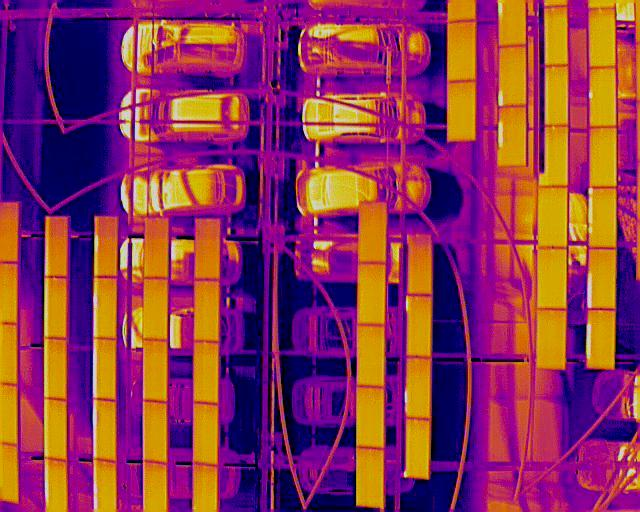Cell: (588, 67, 617, 127)
No-Anomaly: (446, 80, 477, 144), (357, 260, 386, 326), (539, 186, 569, 249), (358, 200, 387, 264), (539, 247, 568, 310), (448, 19, 477, 82), (356, 325, 384, 389), (590, 127, 619, 188), (537, 311, 566, 370), (142, 339, 169, 402), (357, 387, 384, 450), (144, 276, 170, 341), (194, 341, 220, 406), (588, 9, 616, 68), (144, 218, 171, 279), (357, 448, 384, 509), (196, 218, 222, 281), (194, 281, 221, 341), (407, 231, 432, 294), (144, 401, 169, 464), (45, 278, 69, 339), (545, 66, 569, 127), (405, 420, 430, 478), (545, 5, 568, 68), (193, 404, 217, 464), (44, 338, 67, 400), (544, 127, 568, 186), (45, 216, 68, 277), (45, 398, 68, 459), (144, 462, 167, 512), (195, 464, 218, 512)
Unclassified: (588, 186, 617, 249), (588, 249, 618, 308), (586, 310, 616, 369), (499, 106, 527, 169), (404, 356, 432, 419), (499, 44, 526, 108), (406, 294, 433, 357), (93, 217, 118, 280), (93, 278, 118, 340), (93, 339, 117, 400), (94, 400, 115, 463), (45, 459, 68, 512), (94, 460, 114, 512)
